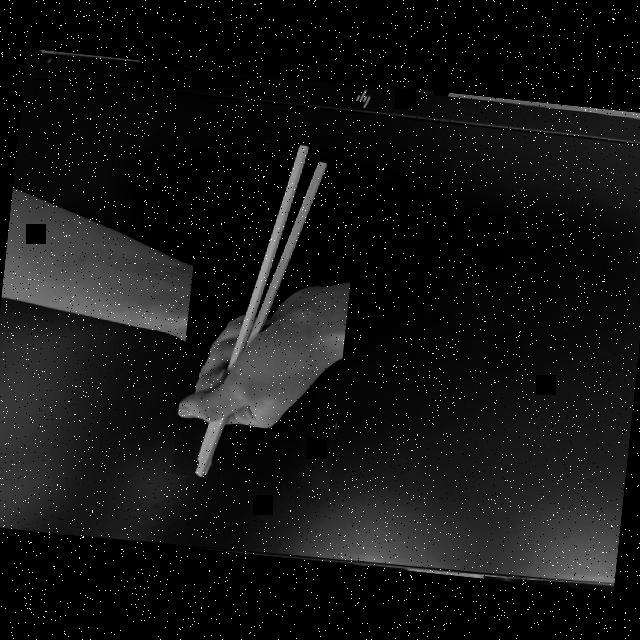stick: (171, 135, 364, 490)
